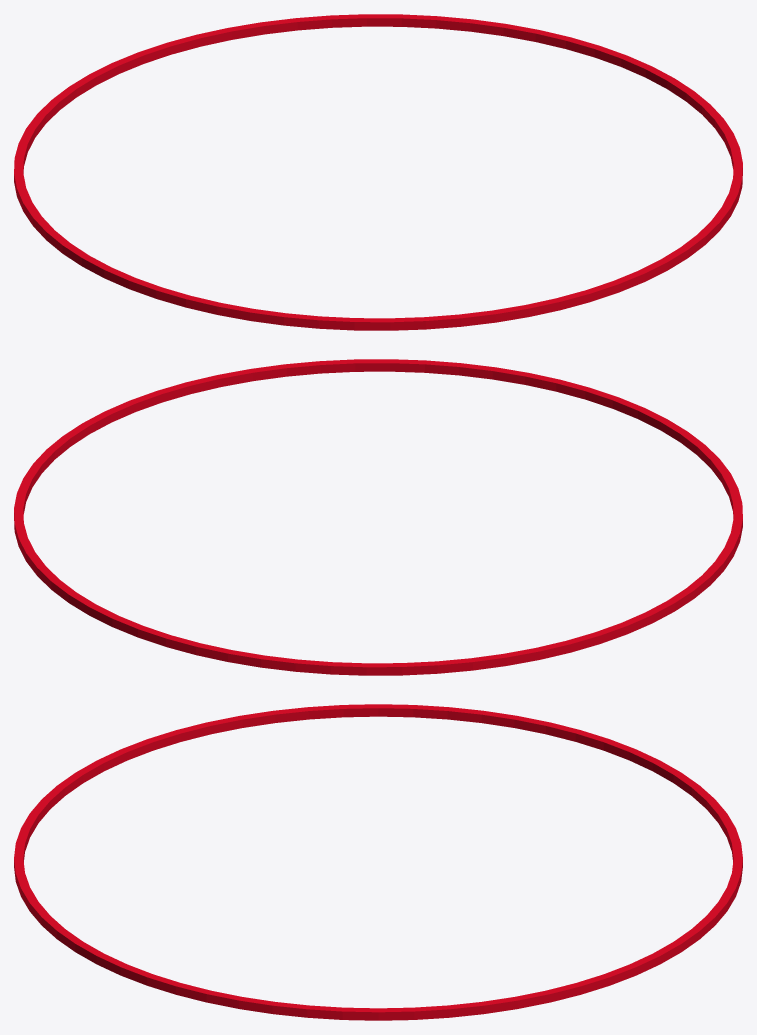
The picture shows the model from 3 angles, top to bottom: view 1: azimuth 30°, elevation 25°; view 2: azimuth 150°, elevation 25°; view 3: azimuth 270°, elevation 25°; orthographic projection.
Parts seen in each view (by area): view 1: Circle; view 2: Circle; view 3: Circle.
Part boxes in pixels (x1,y1,x2,y2): Circle: (14, 14, 742, 330); Circle: (14, 359, 742, 675); Circle: (14, 704, 742, 1020).
Bounding box in the file's own units: 101 × 1.3 × 101.
